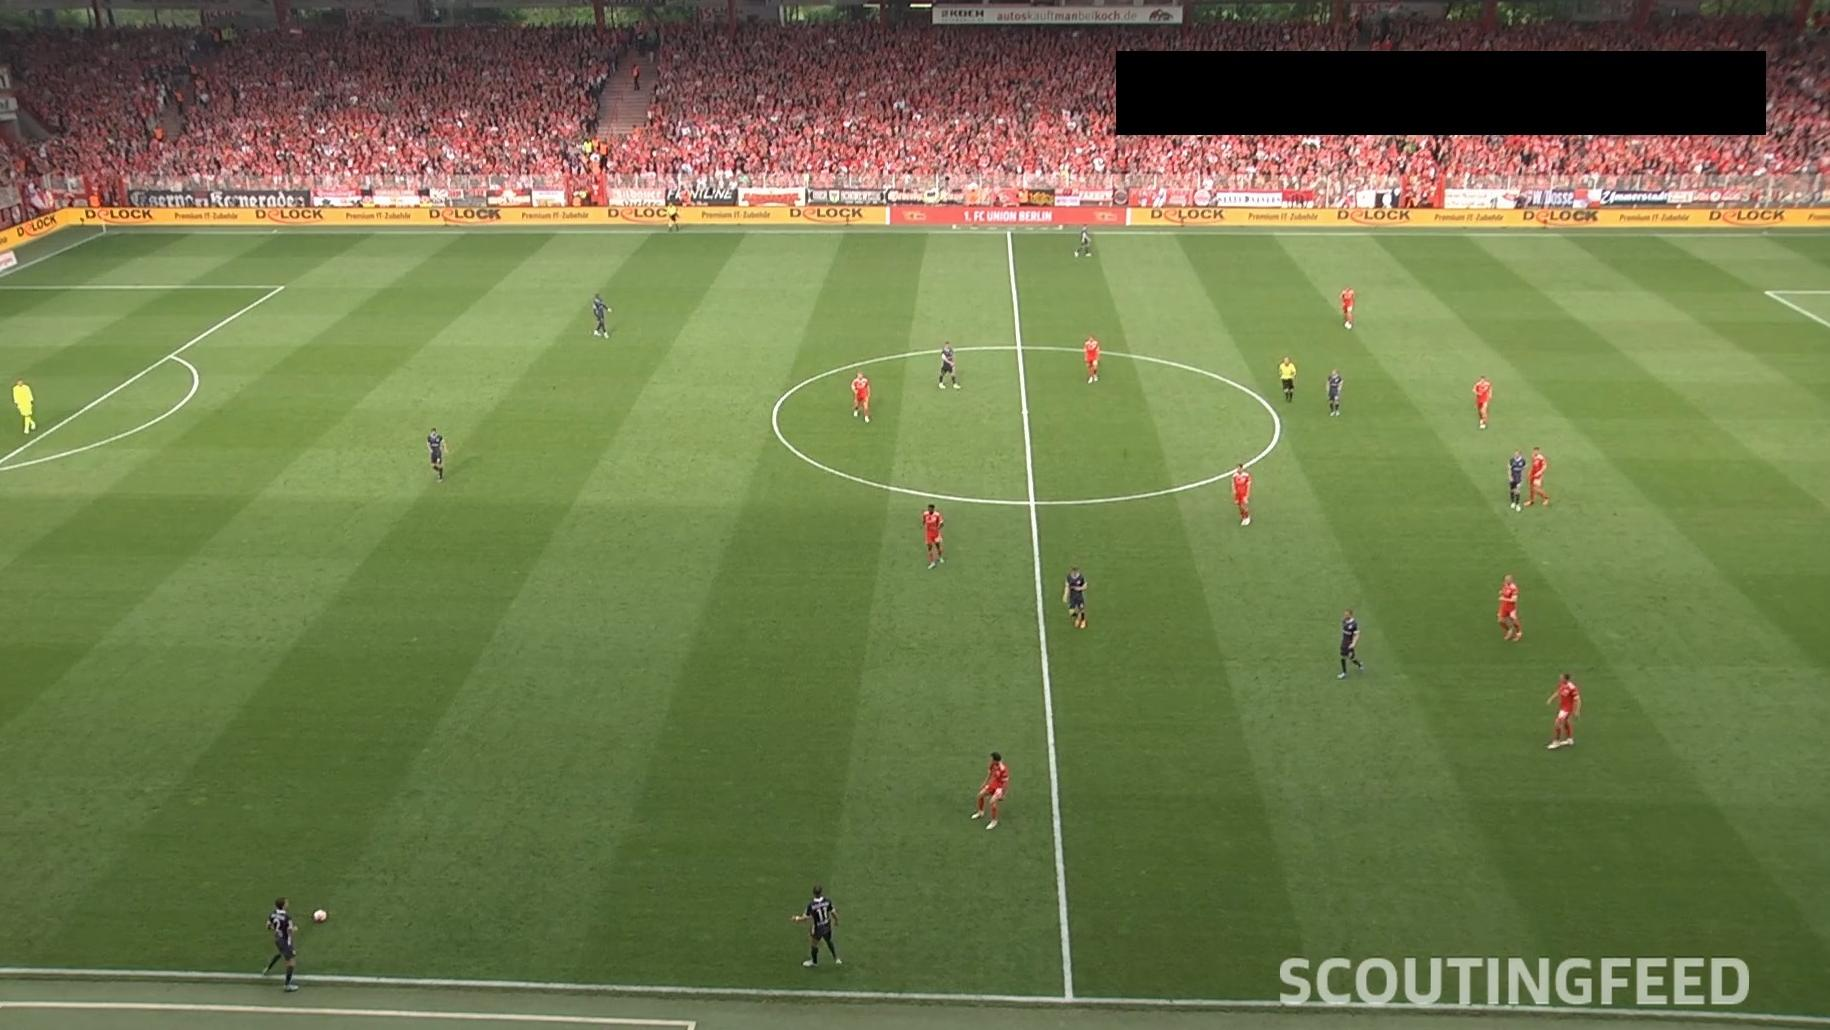ball: (312, 908, 328, 923)
